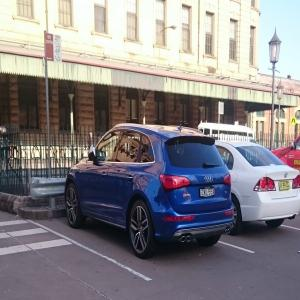Vehicle-registration-plate: (201, 188, 215, 198), (280, 181, 291, 191)
